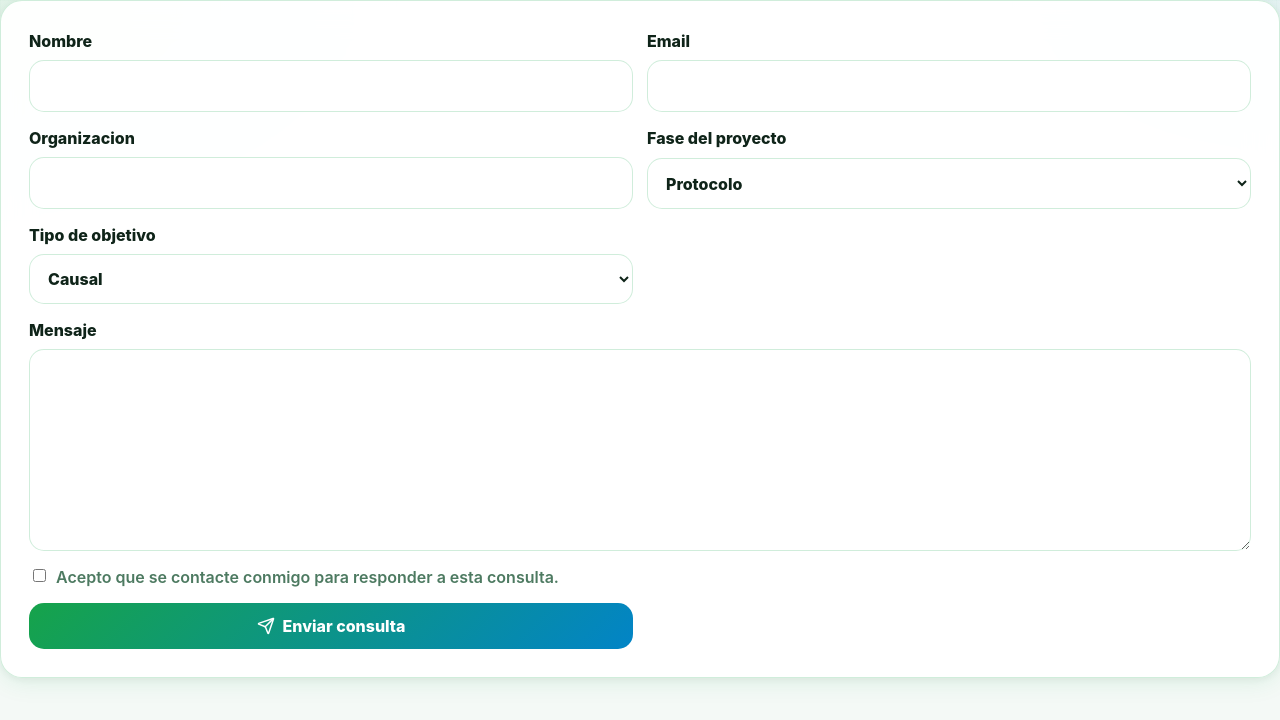
Test: ContactForm › shows success message after successful submission
The width and height of the screenshot is (1280, 720).
Step 1. Type "Eduardo Tebar" into the field labelled "Nombre" → (331, 86), box [29,60,633,112]
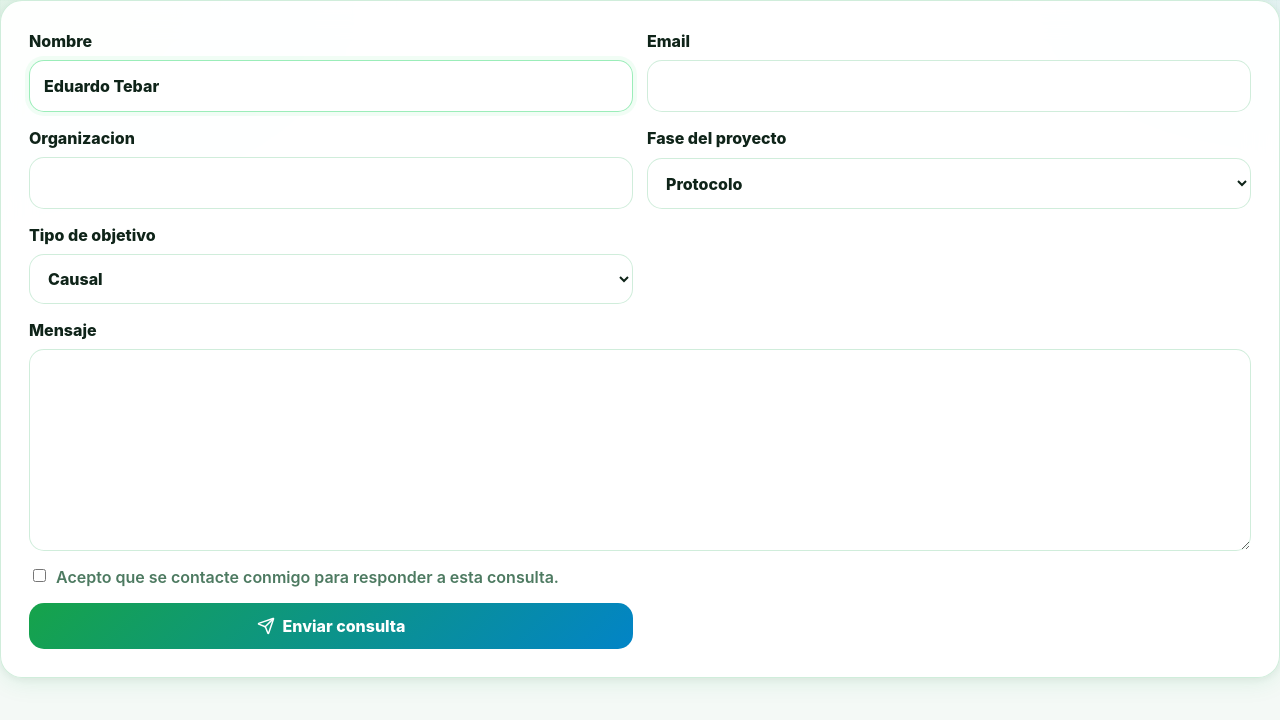
Step 2. Type "edu@example.com" into the field labelled "Email" → (949, 86), box [647,60,1251,112]
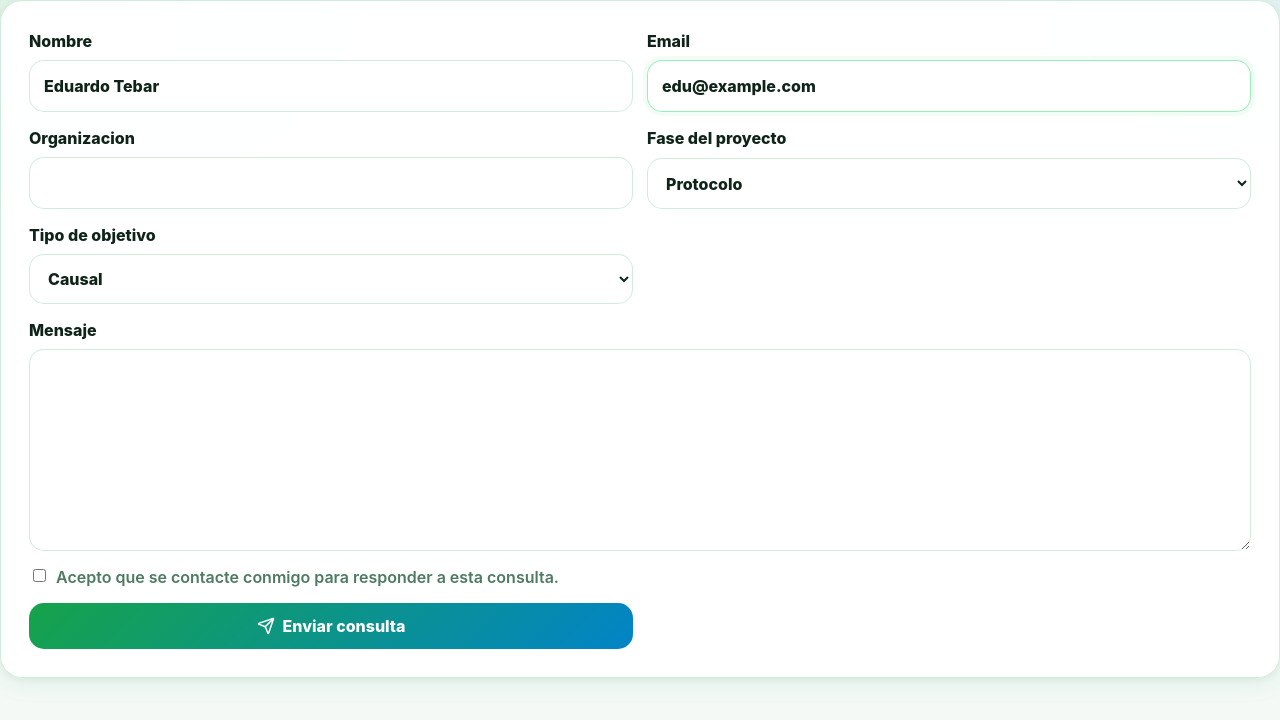
Step 3. Type "Este es un mensaje de consulta suficientemente largo para pasar validación." into the text box labelled "Mensaje" → (640, 450), box [29,349,1251,551]
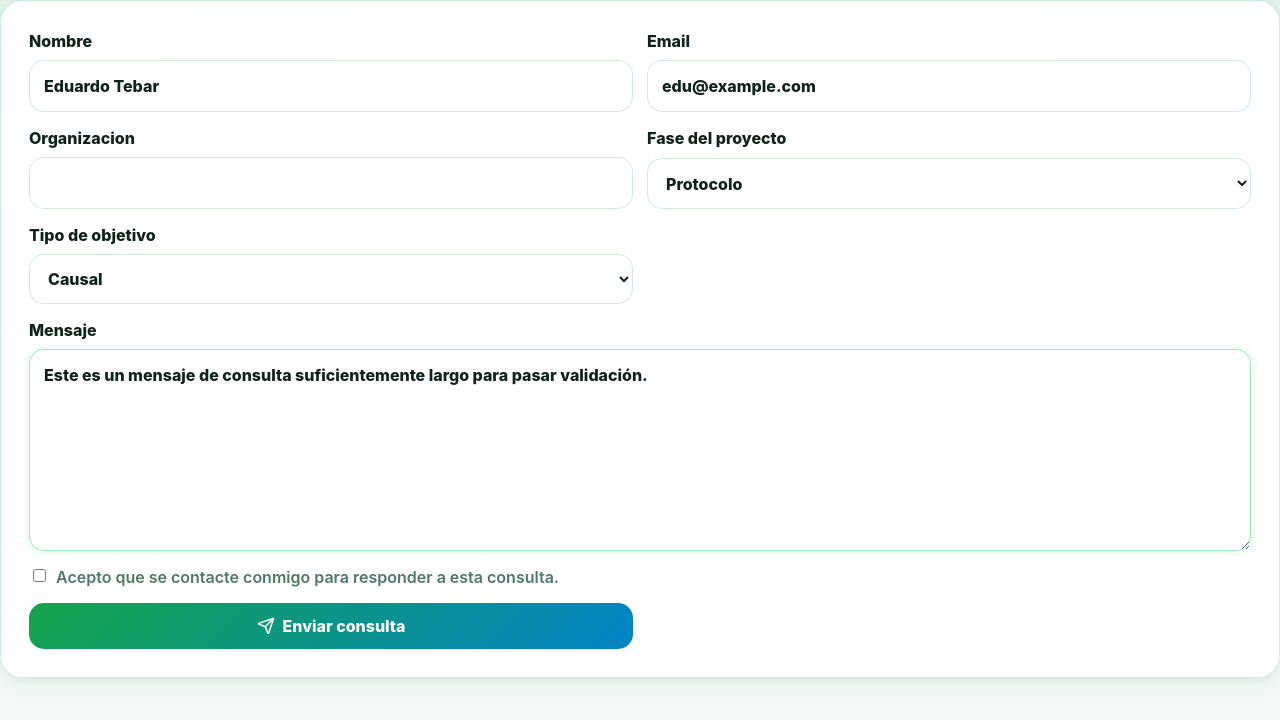
Step 4. Click the checkbox labelled "Acepto" → (40, 575), box [33,569,46,582]
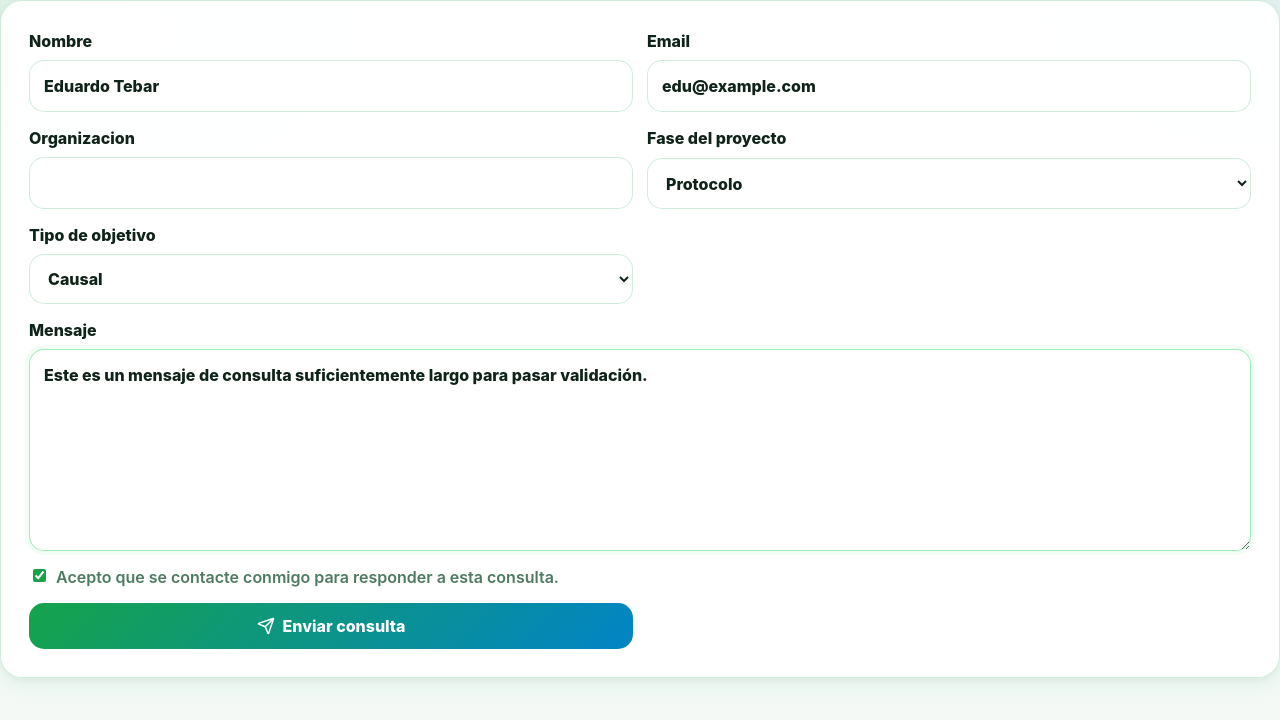
Step 5. Click the button "Enviar consulta" → (331, 626), box [29,603,633,649]
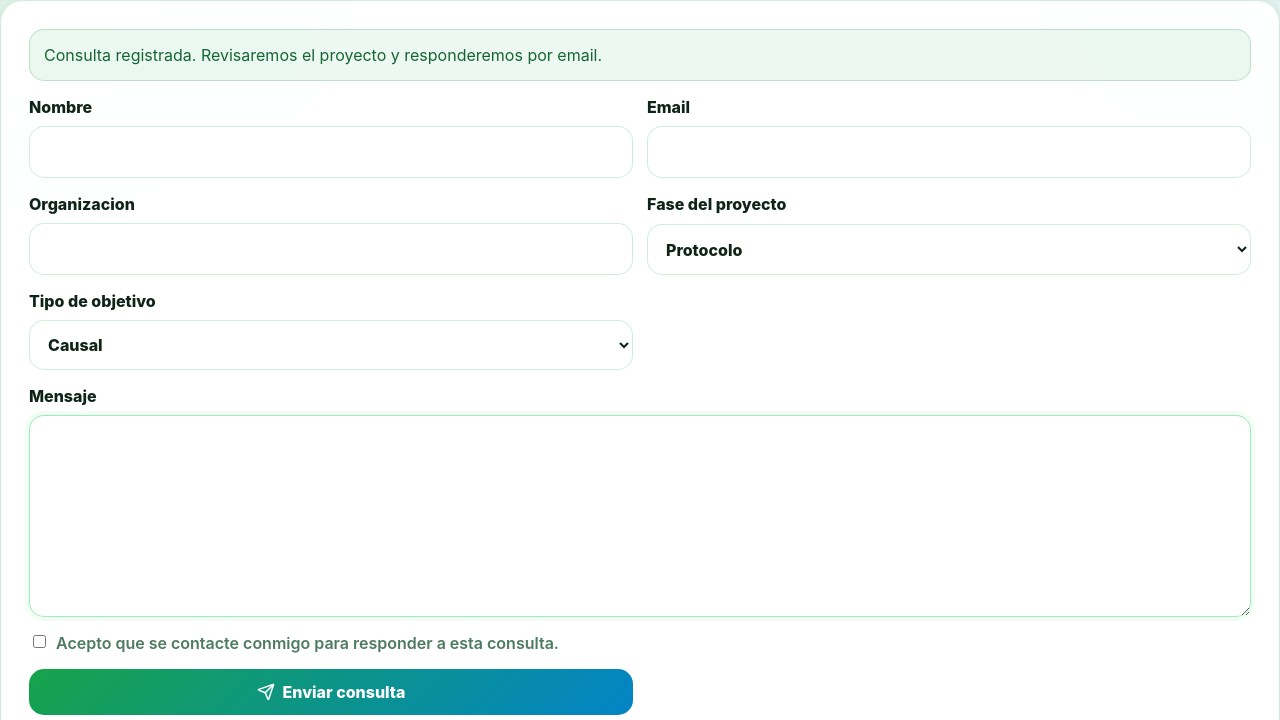
Now the text "Consulta registrada" is shown, box [44,45,602,65]
